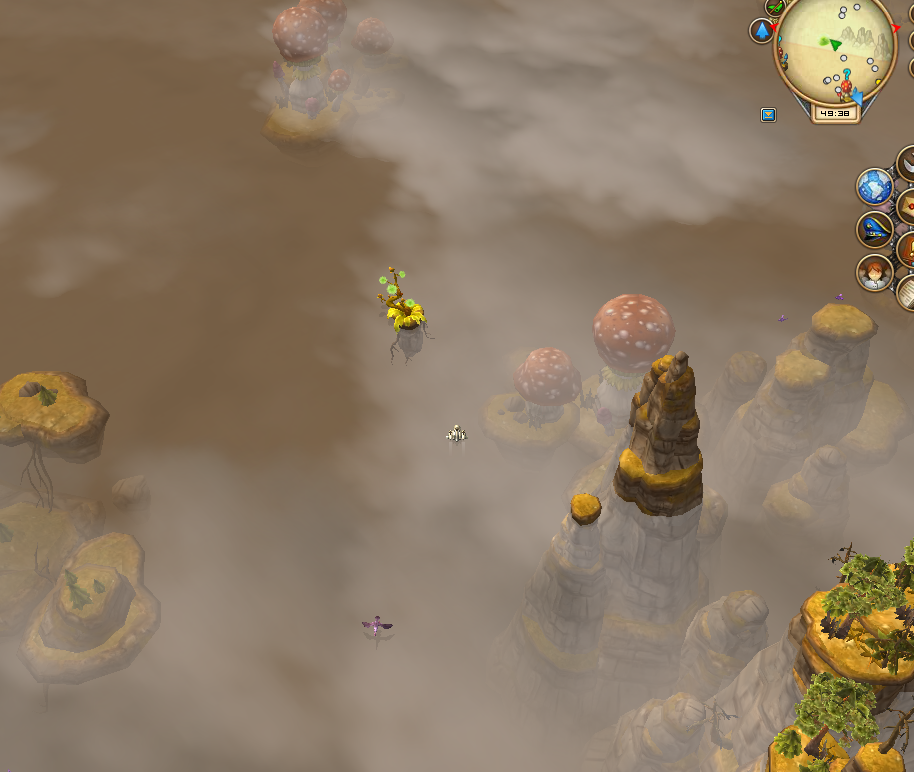dandelion-full: (371, 261, 435, 358)
